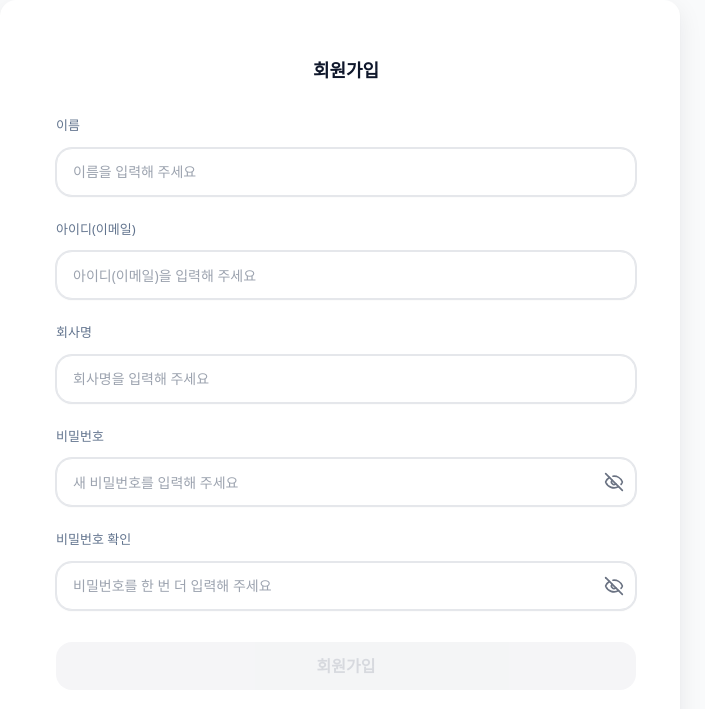
it: SignupForm › 서버가 EMAIL_EXISTS 반환 시 이메일 중복 에러 노출
Type "홍길동" into the field labelled "이름" at (346, 172), box top-left (56, 148), bottom-right (636, 196)
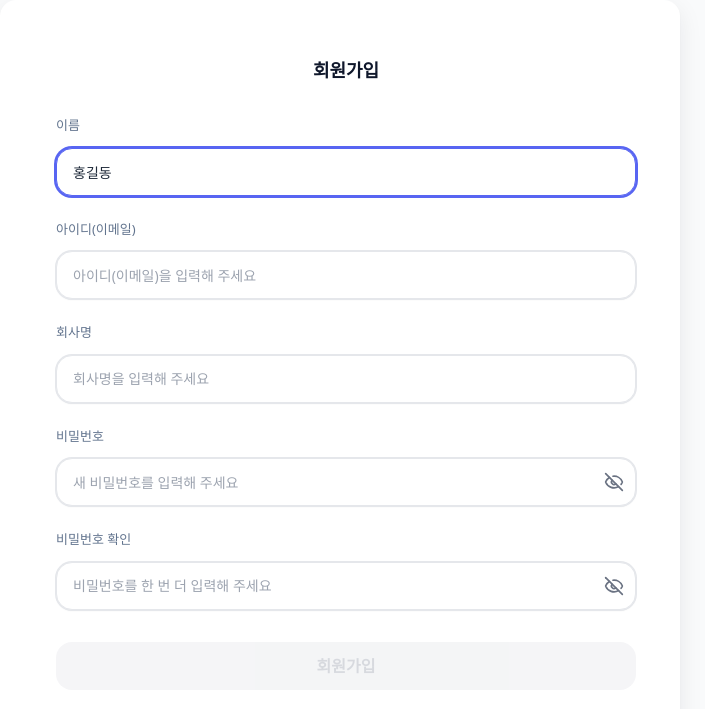
Type "user@example.com" into the field labelled "아이디(이메일)" at (346, 275), box top-left (56, 251), bottom-right (636, 299)
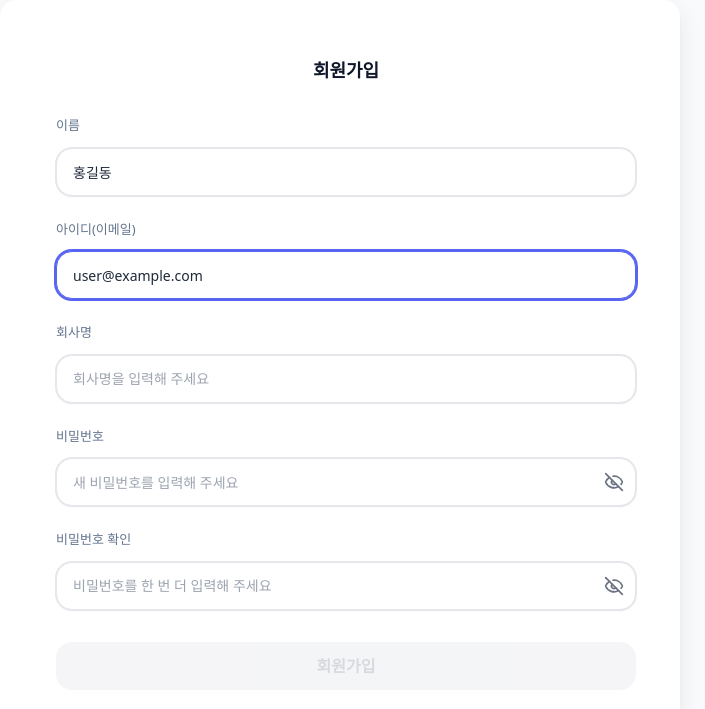
Type "ACME" into the field labelled "회사명" at (346, 378), box top-left (56, 354), bottom-right (636, 402)
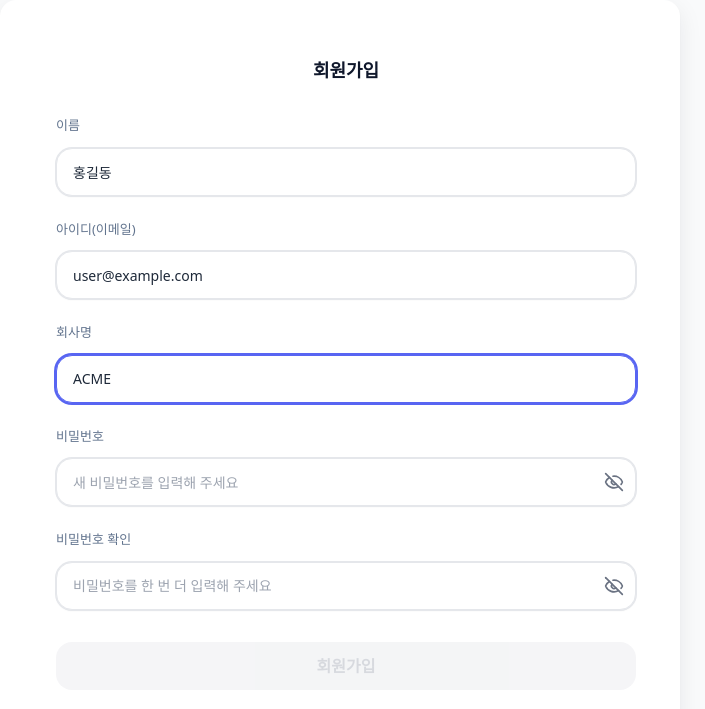
Type "Abcd1234!!@@" into the password field labelled "비밀번호" at (346, 482), box top-left (56, 458), bottom-right (636, 506)
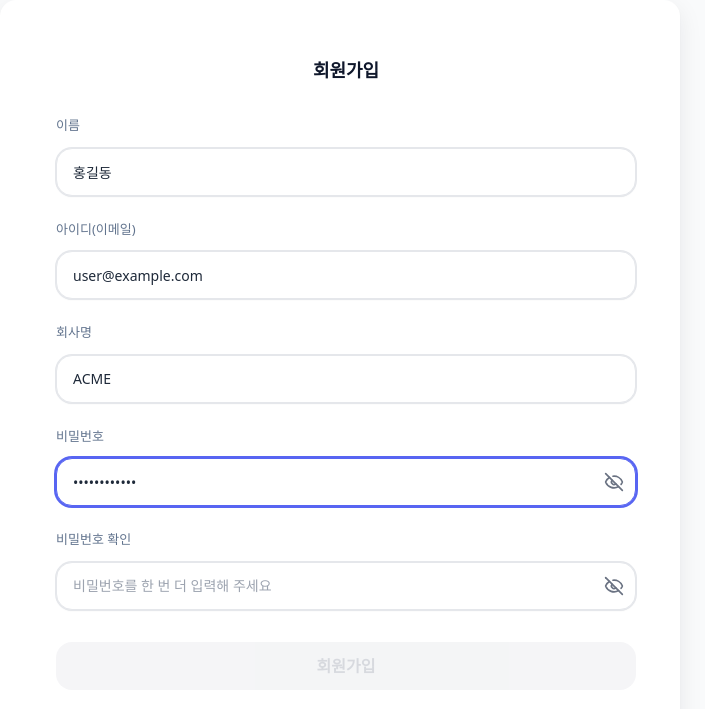
Type "Abcd1234!!@@" into the password field labelled "비밀번호 확인" at (346, 586), box top-left (56, 562), bottom-right (636, 610)
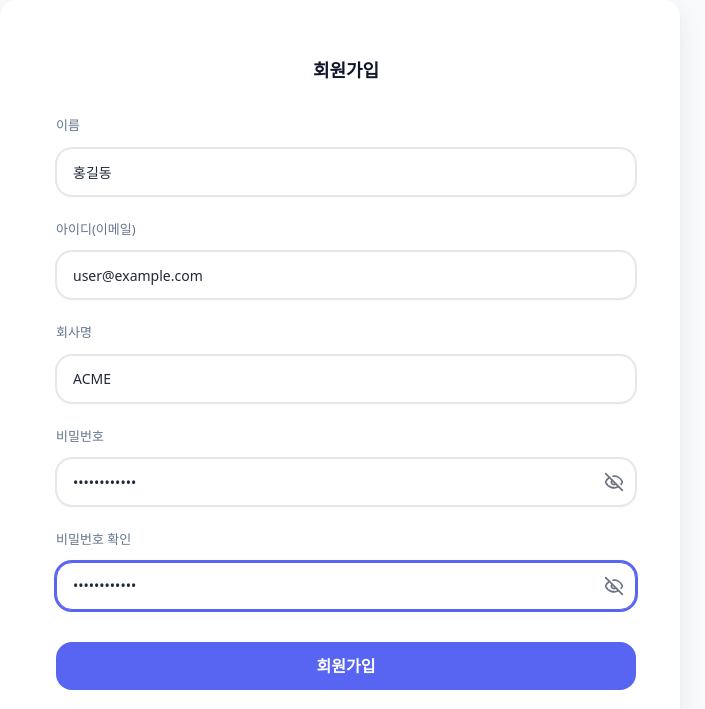
Click the button "회원가입" at (346, 666), box top-left (56, 642), bottom-right (636, 690)
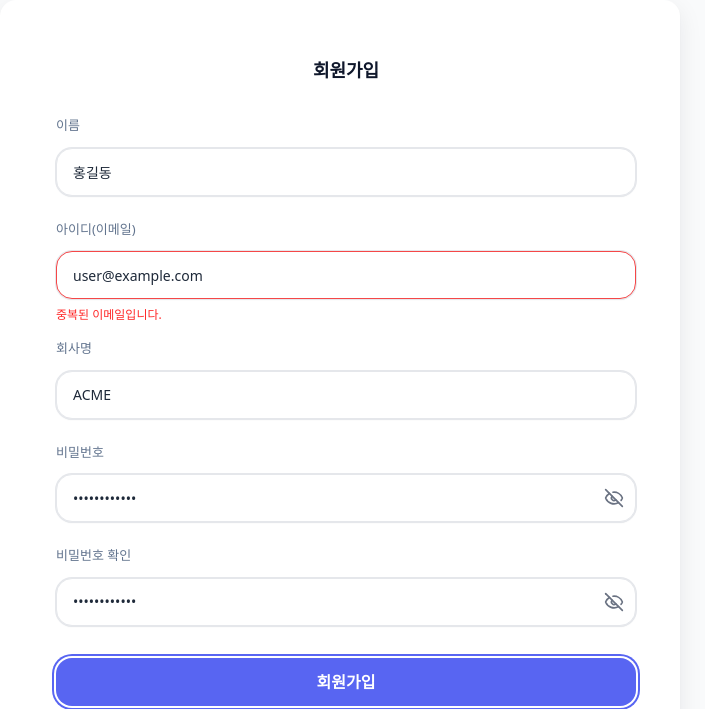
Expected: the text "중복된 이메일입니다." is shown, top-left (56, 307), bottom-right (162, 323)
